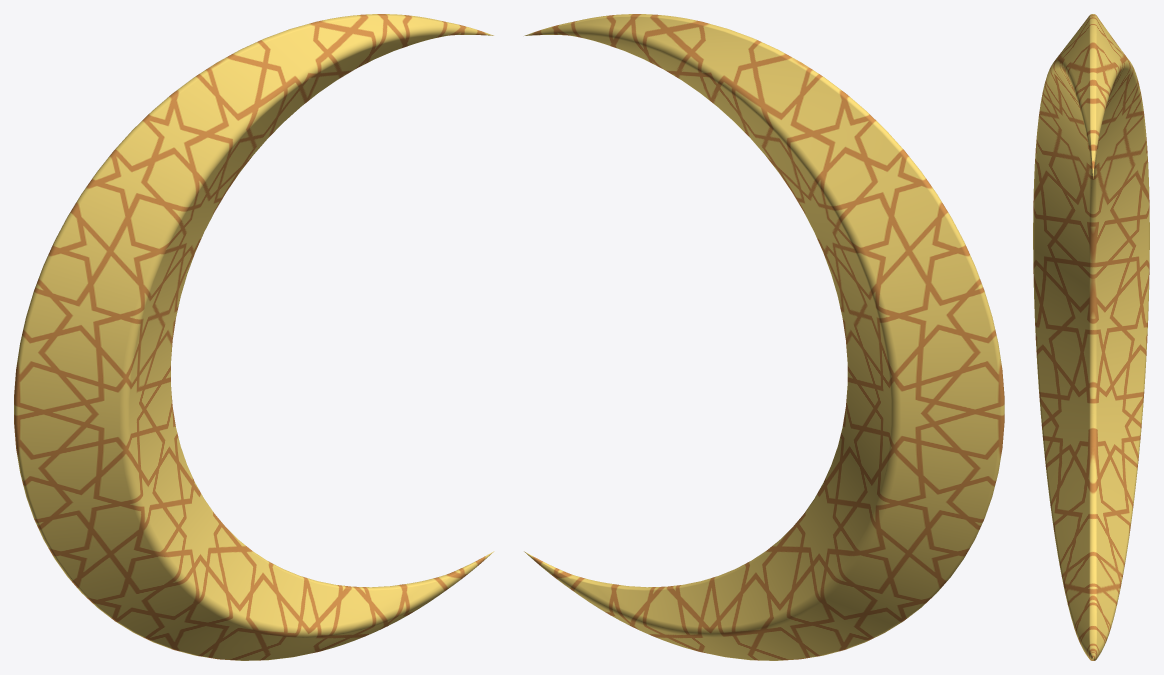
File: golden_crescent_with_ramadan_pattern.glb
3 renders of one model, left to right at view 1: azimuth 30°, elevation 25°; view 2: azimuth 150°, elevation 25°; view 3: azimuth 270°, elevation 25°, orthographic. The views are drawn at different scales.
Visible parts, largest first — view 1: Loft_0; view 2: Loft_0; view 3: Loft_0.
Boxes of the visible parts, x1,y1,x2,y2 form: Loft_0: (14, 14, 494, 660); Loft_0: (524, 14, 1004, 660); Loft_0: (1033, 14, 1149, 660).
Size of the model in its own units: 1.58 by 1.98 by 0.3571.
1 material, 1 textured.
